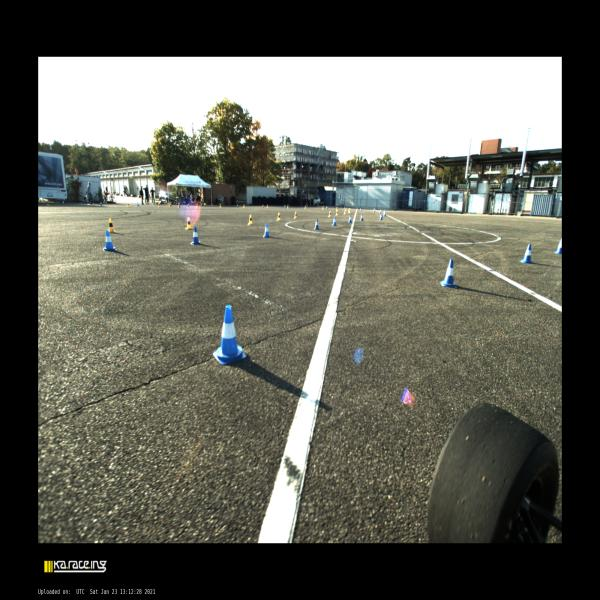blue_cone: (213, 305, 247, 364), (440, 259, 457, 288), (103, 230, 117, 251), (520, 244, 533, 264), (190, 226, 202, 245), (554, 239, 562, 254), (263, 223, 271, 238), (314, 219, 320, 230), (332, 216, 337, 226), (348, 214, 352, 223), (359, 214, 364, 221), (379, 214, 383, 220), (383, 210, 386, 216), (381, 212, 383, 218), (100, 201, 102, 206), (360, 207, 362, 211), (373, 208, 375, 212), (379, 209, 381, 213), (284, 204, 286, 208), (137, 202, 139, 206), (211, 203, 213, 207), (343, 207, 345, 210), (262, 204, 264, 207), (188, 202, 189, 206), (326, 206, 327, 209), (237, 204, 238, 207)
large_orange_cone: (168, 200, 172, 207), (178, 201, 180, 208)
yellow_cone: (185, 217, 193, 230), (109, 219, 116, 233), (247, 214, 254, 225), (276, 212, 281, 221), (294, 211, 298, 219), (328, 210, 332, 218), (343, 209, 346, 215), (336, 210, 338, 216), (158, 202, 160, 208), (345, 207, 347, 212), (348, 208, 350, 213), (322, 205, 324, 210), (243, 203, 245, 208), (336, 207, 338, 211), (304, 205, 306, 209), (266, 204, 268, 208), (219, 204, 221, 208), (196, 204, 198, 208), (128, 202, 130, 206), (90, 202, 92, 206), (286, 205, 288, 208)
